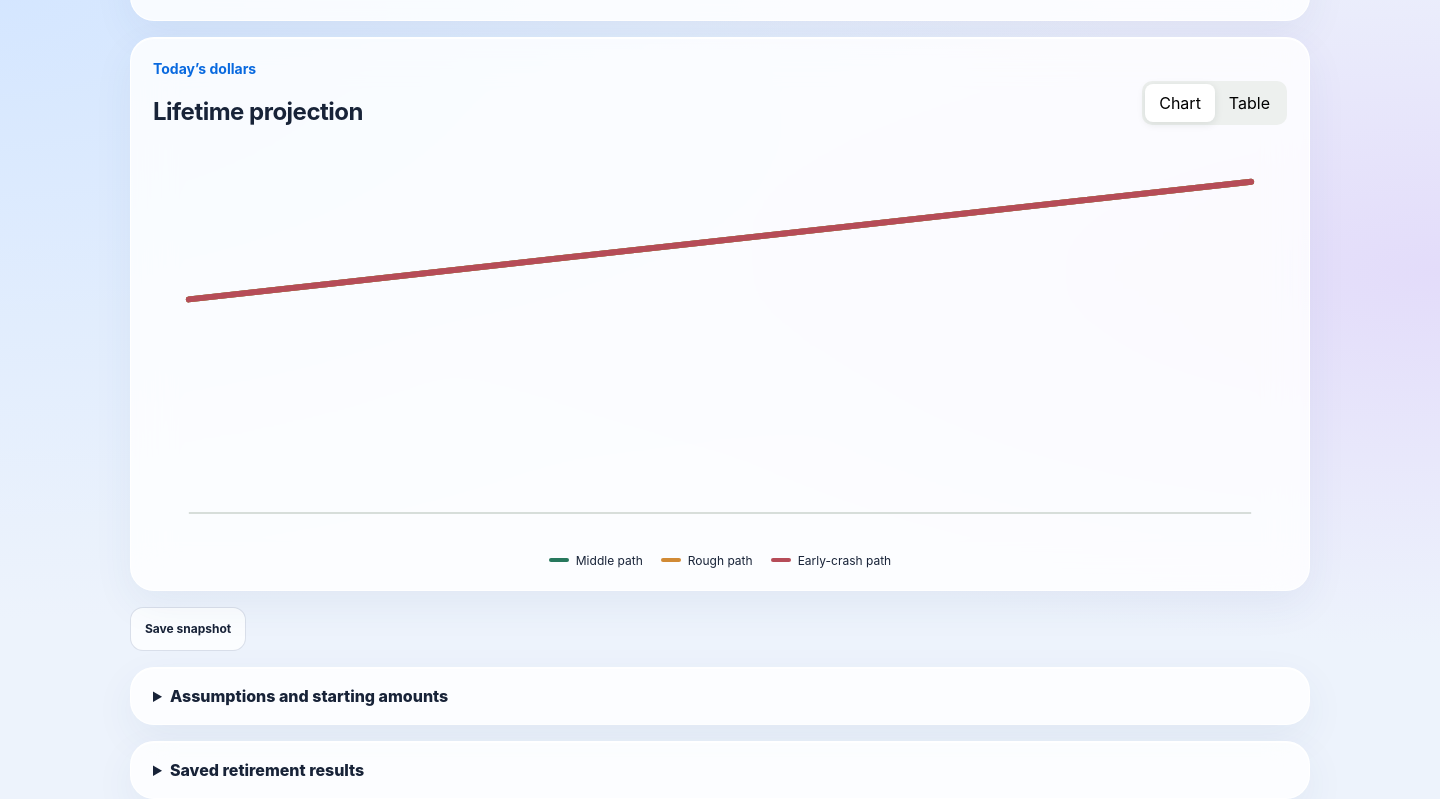
Test case: Retirement › limits visible snapshot history to three, searches all saved evidence, and reports empty results
The width and height of the screenshot is (1440, 799).
(page scrolled)
Step 1. Click the heading "Saved retirement results" → (267, 770), box [170,760,364,780]
(page scrolled)
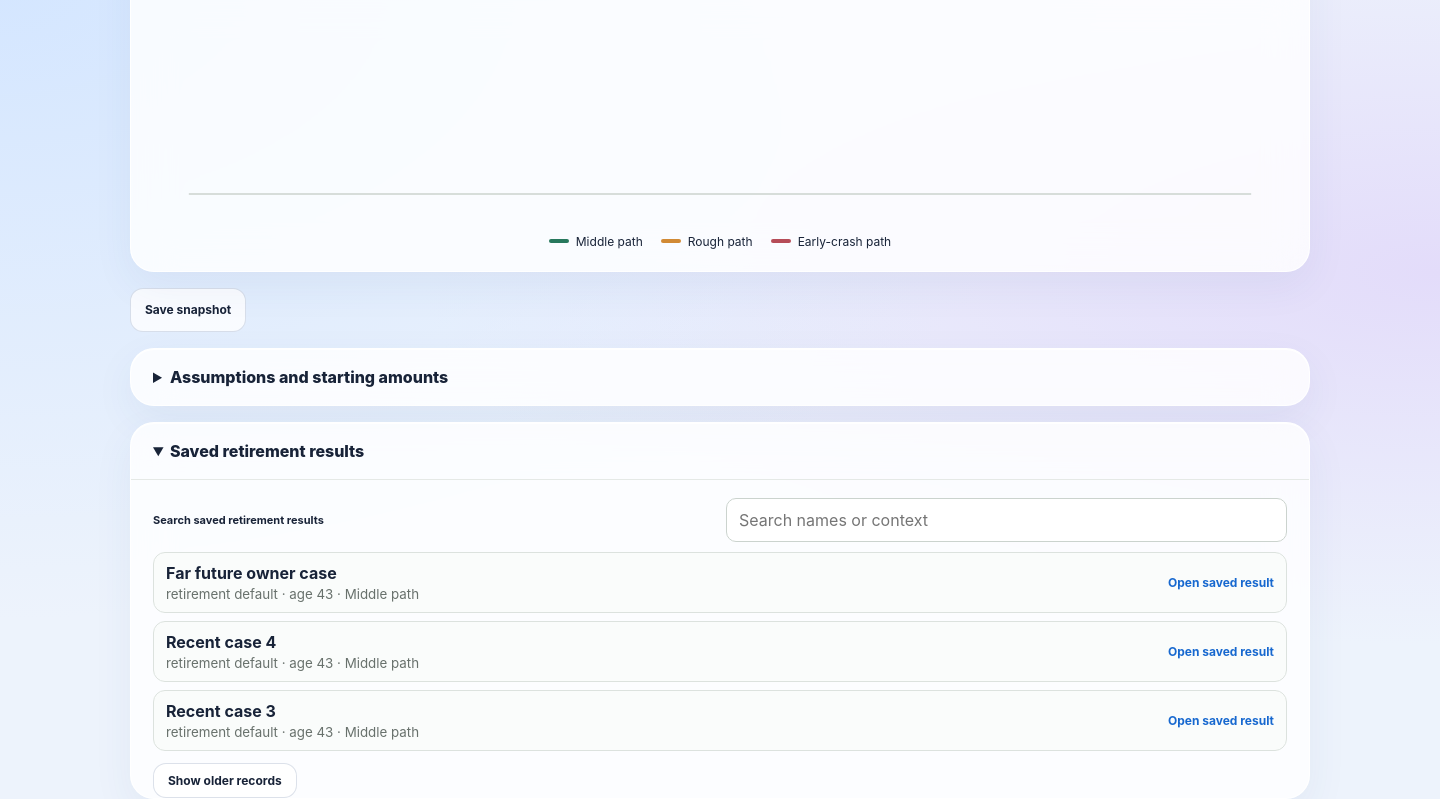
Step 2. Type "Far future" into the search field labelled "Search saved retirement results" → (1006, 520), box [726,498,1287,542]
(page scrolled)
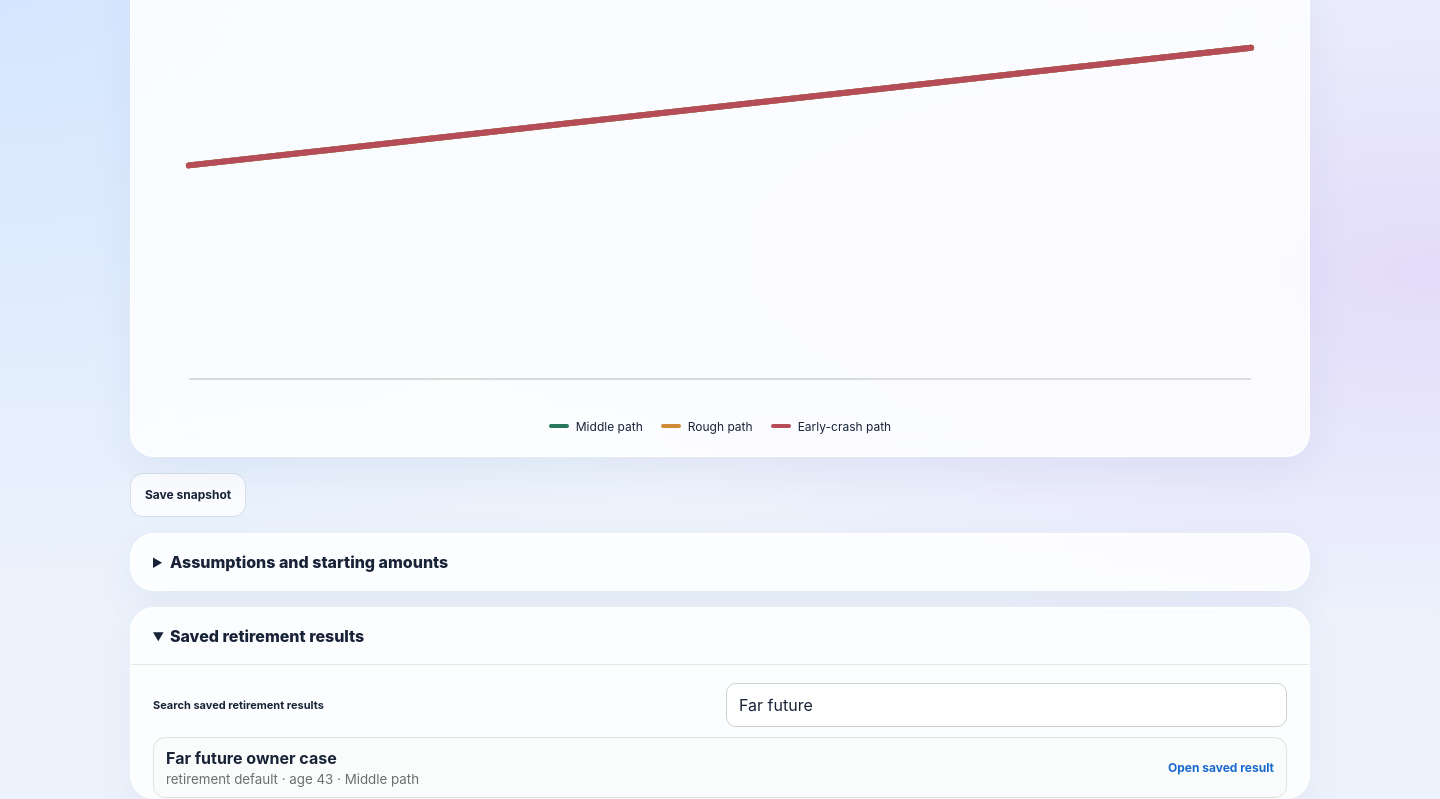
Now the button "Far future owner case" is shown, box [153,737,1287,798]
Step 3. Replace the text in the search field labelled "Search saved retirement results" with "missing" → (1006, 705), box [726,683,1287,727]
(page scrolled)
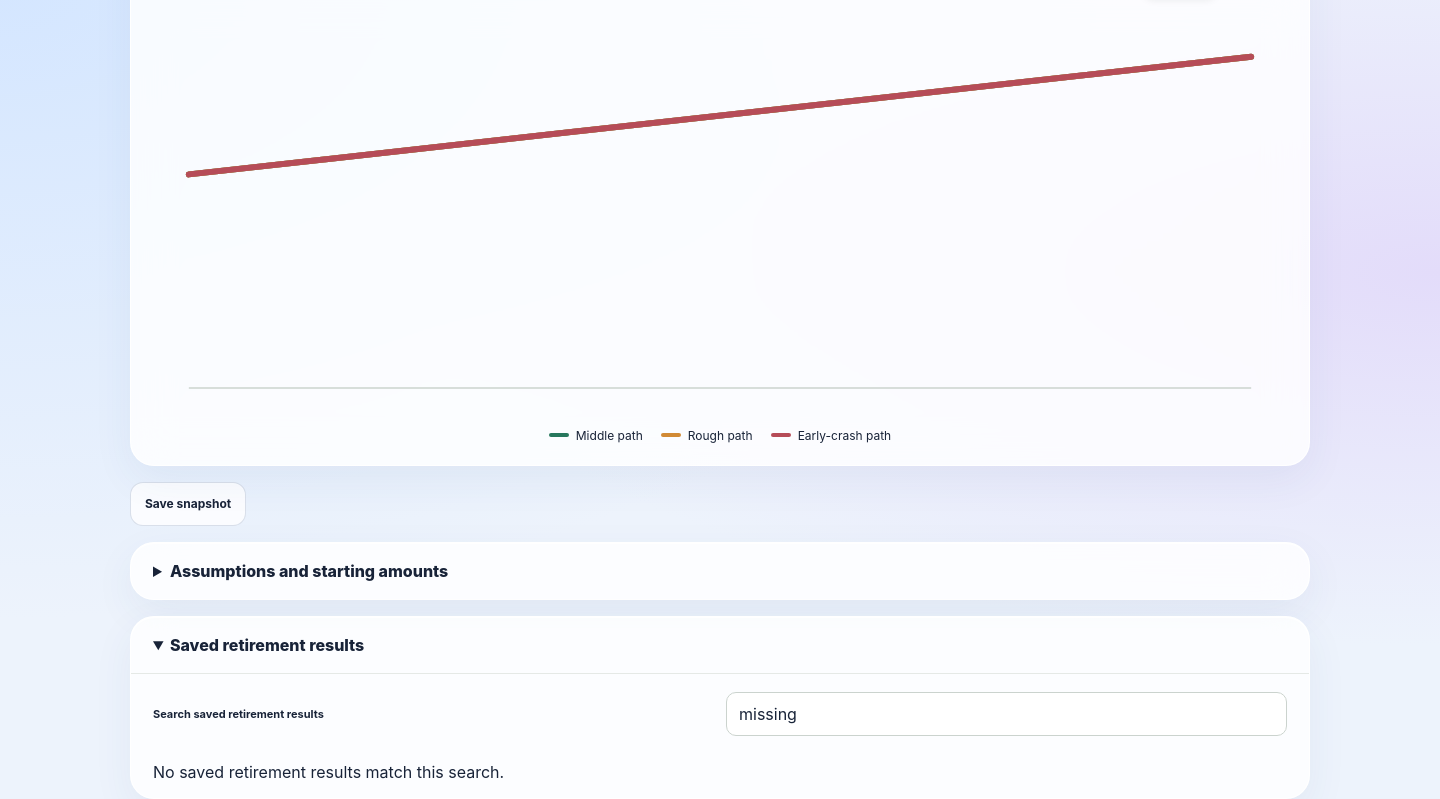
Now the text "No saved retirement results match this search." is shown, box [153,762,504,782]
